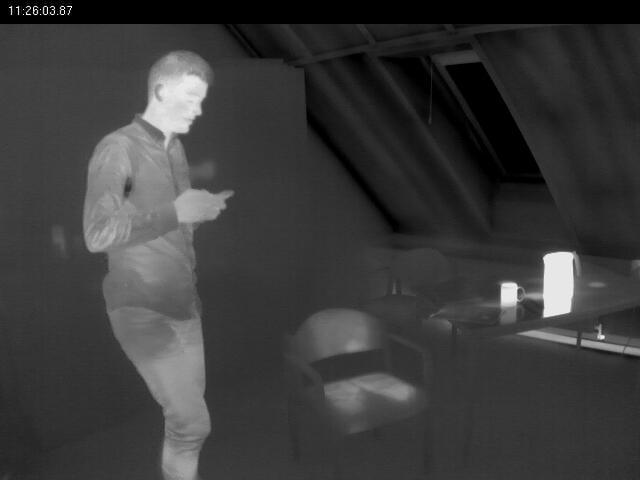person: (79, 52, 235, 471)
